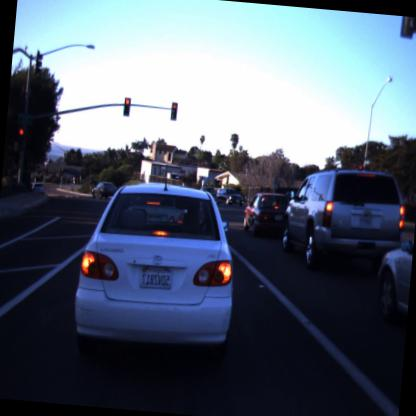trafficlight: (16, 125, 26, 151), (170, 101, 179, 121), (123, 98, 131, 116)
